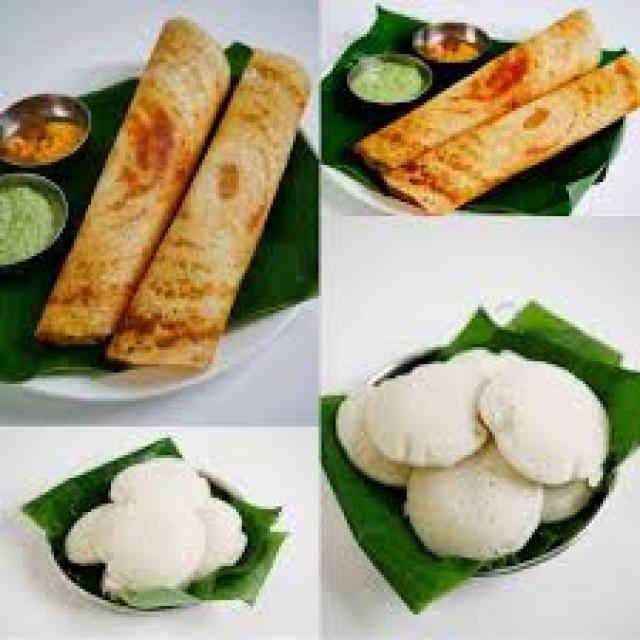DOSA: (32, 18, 315, 371), (354, 8, 637, 218)
IDLI: (331, 344, 613, 558), (64, 451, 246, 595)
